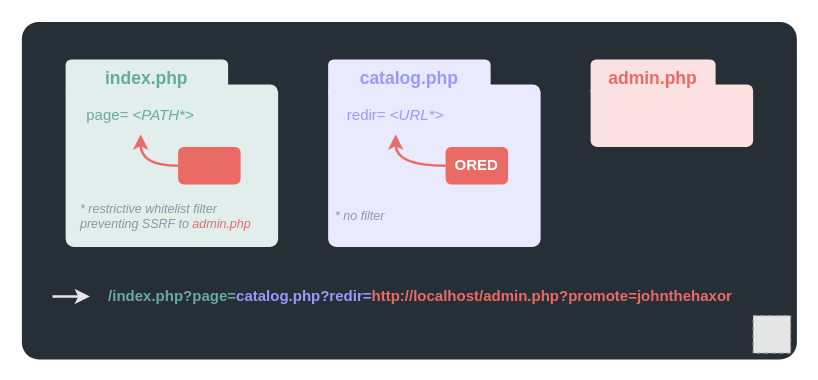
Some shapes in this 818 by 380 pixel diagram are drawn without their labels. Grey dashed boxes stand in for pictures. Here are the shapes that lost their labels. From the top down, the centre of each, then its label:
At point 671,115: "promote= <USER>".
At point 209,165: "SSRF".
